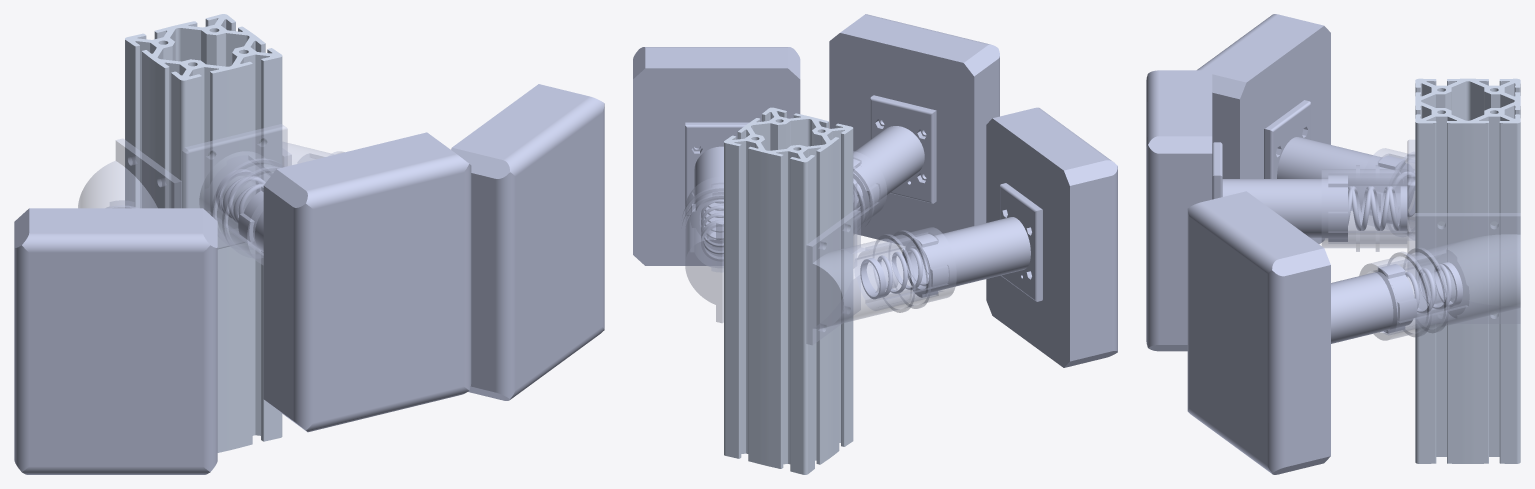
File: Final_Assembly_for_Showcase.glb
3 views of the same model, side by side, from view 1: azimuth 30°, elevation 25°; view 2: azimuth 150°, elevation 25°; view 3: azimuth 270°, elevation 25° (orthographic). The views are drawn at different scales.
Visible parts, largest first — view 1: foam-1, foam-3, Mirrorfoam-4, Final Iteration Foam Mounts, spring_mount_iteration_5-1, spring_side_mount_iteration_8-1, foam_mount_iteration_4-1, Mirrorspring_side_mount_iteration_8-2, Spring-3, MirrorSpring-4; view 2: Final Iteration Foam Mounts, foam-3, foam-1, Mirrorfoam-4, spring_side_mount_iteration_8-1, foam_mount_iteration_4-2, foam_mount_iteration_4-1, Mirrorspring_side_mount_iteration_8-2, Mirrorfoam_mount_iteration_4-3, spring_mount_iteration_5-1, Spring-4; view 3: Final Iteration Foam Mounts, Mirrorfoam-4, foam-1, Mirrorspring_side_mount_iteration_8-2, foam-3, spring_mount_iteration_5-1, foam_mount_iteration_4-2, foam_mount_iteration_4-1, Mirrorfoam_mount_iteration_4-3, spring_side_mount_iteration_8-1, Spring-4, MirrorSpring-4 (+1 smaller).
Boxes of the visible parts, x1,y1,x2,y2 form: foam-1: [263, 132, 471, 432]; foam-3: [14, 208, 217, 474]; Mirrorfoam-4: [451, 84, 604, 400]; Final Iteration Foam Mounts: [125, 14, 282, 452]; spring_mount_iteration_5-1: [182, 124, 287, 264]; spring_side_mount_iteration_8-1: [78, 138, 181, 208]; foam_mount_iteration_4-1: [238, 185, 263, 252]; Mirrorspring_side_mount_iteration_8-2: [282, 142, 344, 166]; Spring-3: [216, 169, 265, 222]; MirrorSpring-4: [216, 169, 264, 222]; Final Iteration Foam Mounts: [724, 107, 928, 474]; foam-3: [986, 107, 1117, 367]; foam-1: [829, 14, 999, 245]; Mirrorfoam-4: [633, 47, 800, 265]; spring_side_mount_iteration_8-1: [806, 210, 956, 344]; foam_mount_iteration_4-2: [902, 183, 1042, 301]; foam_mount_iteration_4-1: [853, 95, 936, 217]; Mirrorspring_side_mount_iteration_8-2: [681, 177, 723, 322]; Mirrorfoam_mount_iteration_4-3: [685, 122, 749, 247]; spring_mount_iteration_5-1: [853, 151, 886, 267]; Spring-4: [701, 199, 723, 261]; Final Iteration Foam Mounts: [1392, 78, 1520, 463]; Mirrorfoam-4: [1187, 191, 1330, 474]; foam-1: [1146, 70, 1212, 351]; Mirrorspring_side_mount_iteration_8-2: [1359, 213, 1520, 340]; foam-3: [1197, 14, 1330, 244]; spring_mount_iteration_5-1: [1321, 140, 1415, 262]; foam_mount_iteration_4-2: [1264, 100, 1414, 214]; foam_mount_iteration_4-1: [1212, 142, 1347, 241]; Mirrorfoam_mount_iteration_4-3: [1331, 264, 1417, 343]; spring_side_mount_iteration_8-1: [1363, 148, 1415, 236]; Spring-4: [1405, 262, 1462, 313]; MirrorSpring-4: [1348, 186, 1407, 230].
Size of the model in its own units: 0.4592 by 0.285 by 0.284.
